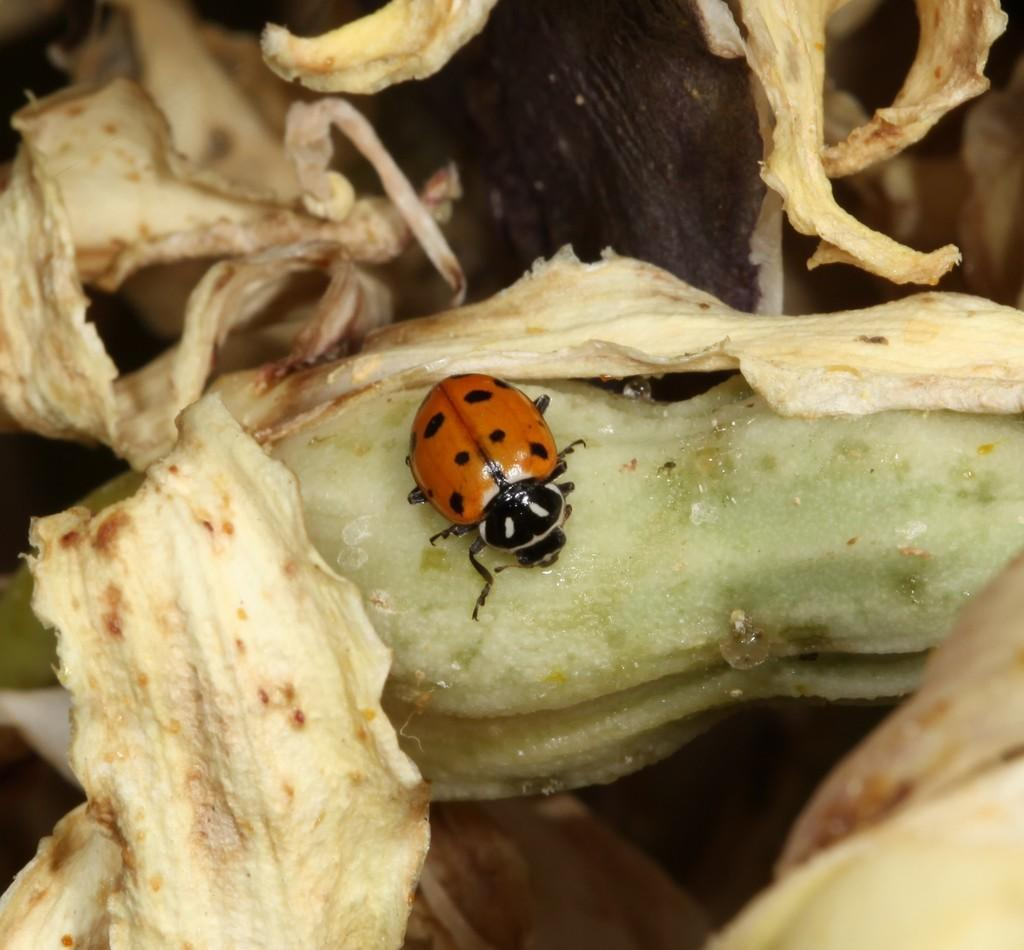ladybug: (406, 371, 589, 624)
